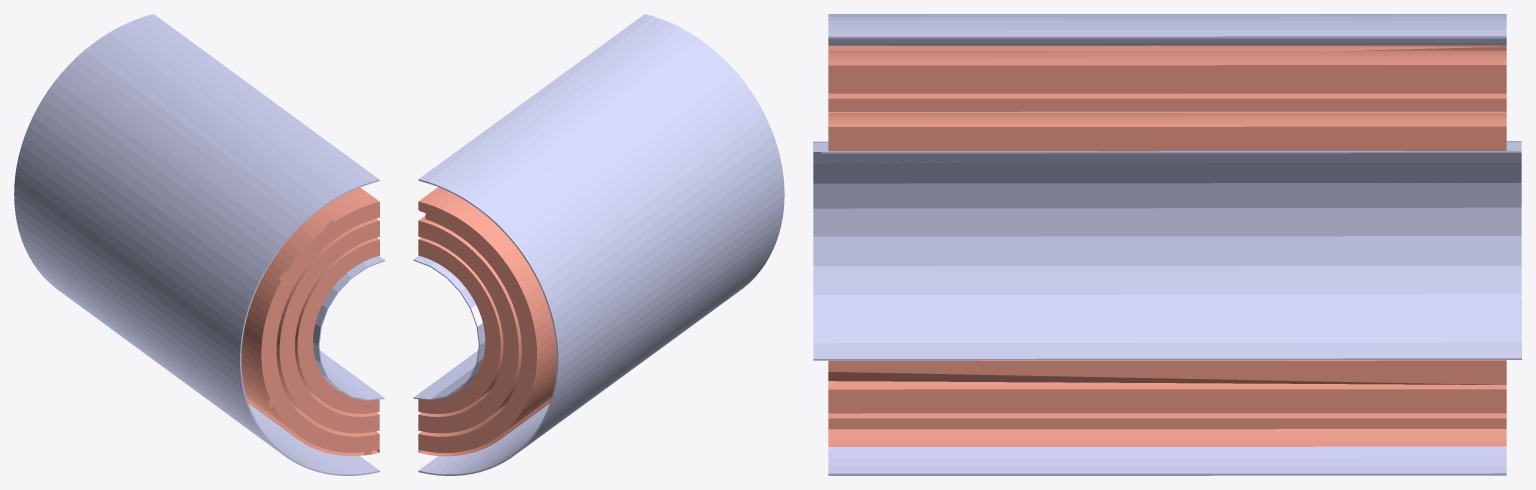
Rendered from SCT-BAR-cut2.glb.
3 renders of one model, left to right at view 1: azimuth 30°, elevation 25°; view 2: azimuth 150°, elevation 25°; view 3: azimuth 270°, elevation 25°, orthographic. The views are drawn at different scales.
Visible parts, largest first — view 1: null; view 2: null; view 3: null.
Part boxes in pixels (left/top/right/bottom): null: left=14, top=14, right=384, bottom=475; null: left=413, top=14, right=784, bottom=475; null: left=813, top=14, right=1521, bottom=475.
Size of the model in its own units: 0.5471 by 1.09 by 1.6.
